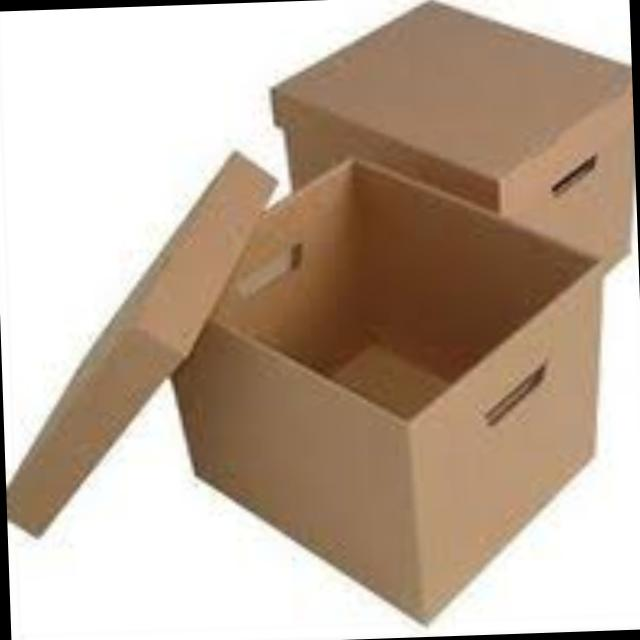cardboard paper: (168, 154, 606, 626), (6, 148, 278, 529), (270, 0, 636, 273)
